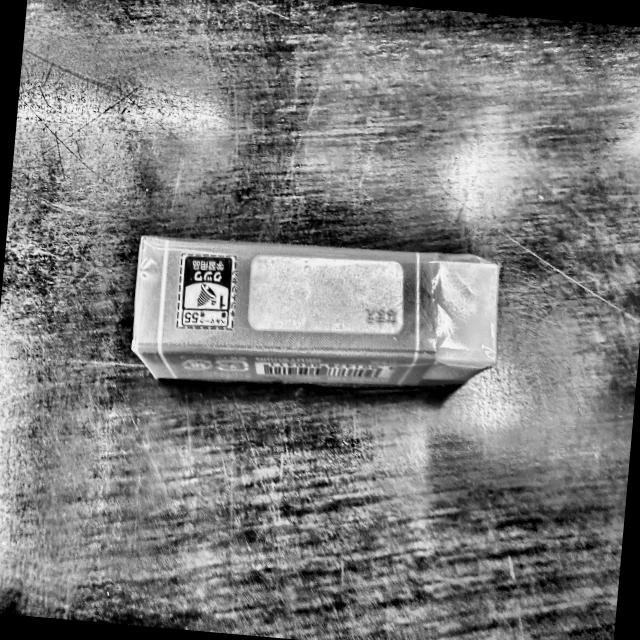eraser: (124, 228, 511, 414)
